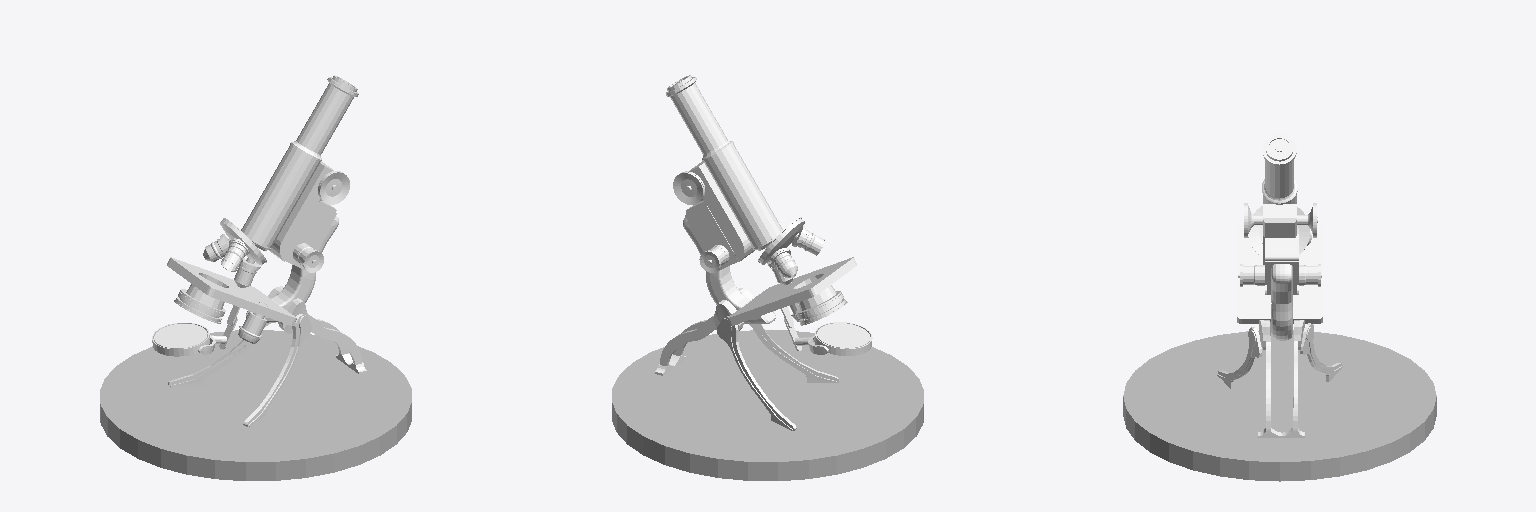
File: microscope.obj
The picture shows the model from 3 angles: view 1: azimuth 30°, elevation 25°; view 2: azimuth 150°, elevation 25°; view 3: azimuth 270°, elevation 25°; orthographic projection.
Visible parts, largest first — view 1: Cylinder, Lower_cylinder_low_meshId15_name, Micro_Plate_low_meshId19_name, Front_legs_low_meshId11_name, Upper_cylinder_low_meshId28_name, Golden_square_low_meshId12_name, Mirror_low_meshId24_name, Back_legs_low_meshId1_name, Main_handle_low_meshId16_name, Brown_box_low_meshId2_name, Top_Handles_low_meshId27_name, Fat_Lens_low_meshId10_name (+4 smaller); view 2: Cylinder, Lower_cylinder_low_meshId15_name, Micro_Plate_low_meshId19_name, Front_legs_low_meshId11_name, Upper_cylinder_low_meshId28_name, Golden_square_low_meshId12_name, Mirror_low_meshId24_name, Main_handle_low_meshId16_name, Back_legs_low_meshId1_name, Brown_box_low_meshId2_name, Top_Handles_low_meshId27_name, Fat_Lens_low_meshId10_name (+2 smaller); view 3: Cylinder, Micro_Plate_low_meshId19_name, Main_handle_low_meshId16_name, Front_legs_low_meshId11_name, Back_legs_low_meshId1_name, Brown_box_low_meshId2_name, Golden_square_low_meshId12_name, Lower_Handles_low_meshId14_name, Upper_cylinder_low_meshId28_name, Eyepiece_lid_low_meshId9_name, Concave_Plate_low_meshId5_name, Top_Handles_low_meshId27_name.
Part boxes in pixels (x1,y1,x2,y2): Cylinder: (100, 330, 411, 480); Lower_cylinder_low_meshId15_name: (241, 144, 320, 247); Micro_Plate_low_meshId19_name: (167, 257, 296, 325); Front_legs_low_meshId11_name: (168, 314, 311, 426); Upper_cylinder_low_meshId28_name: (296, 83, 353, 154); Golden_square_low_meshId12_name: (269, 161, 333, 261); Mirror_low_meshId24_name: (152, 323, 209, 356); Back_legs_low_meshId1_name: (268, 286, 361, 364); Main_handle_low_meshId16_name: (246, 216, 338, 322); Brown_box_low_meshId2_name: (285, 201, 336, 269); Top_Handles_low_meshId27_name: (318, 171, 349, 204); Fat_Lens_low_meshId10_name: (174, 289, 225, 323); Cylinder: (612, 330, 923, 480); Lower_cylinder_low_meshId15_name: (704, 144, 782, 247); Micro_Plate_low_meshId19_name: (727, 257, 856, 325); Front_legs_low_meshId11_name: (717, 296, 838, 430); Upper_cylinder_low_meshId28_name: (670, 83, 727, 154); Golden_square_low_meshId12_name: (689, 161, 754, 261); Mirror_low_meshId24_name: (814, 322, 872, 355); Main_handle_low_meshId16_name: (683, 206, 775, 323); Back_legs_low_meshId1_name: (660, 288, 754, 365); Brown_box_low_meshId2_name: (685, 201, 738, 271); Top_Handles_low_meshId27_name: (673, 171, 704, 204); Fat_Lens_low_meshId10_name: (796, 291, 847, 325); Cylinder: (1123, 330, 1436, 481); Micro_Plate_low_meshId19_name: (1237, 224, 1322, 323); Main_handle_low_meshId16_name: (1271, 264, 1292, 340); Front_legs_low_meshId11_name: (1217, 323, 1342, 388); Back_legs_low_meshId1_name: (1259, 320, 1304, 430); Brown_box_low_meshId2_name: (1265, 234, 1298, 294); Golden_square_low_meshId12_name: (1263, 204, 1296, 264); Lower_Handles_low_meshId14_name: (1238, 264, 1321, 286); Upper_cylinder_low_meshId28_name: (1265, 160, 1293, 198); Eyepiece_lid_low_meshId9_name: (1263, 135, 1296, 165); Concave_Plate_low_meshId5_name: (1248, 206, 1309, 257); Top_Handles_low_meshId27_name: (1244, 203, 1317, 237).
Bounding box in the file's own units: 9.13 × 10.23 × 9.13.